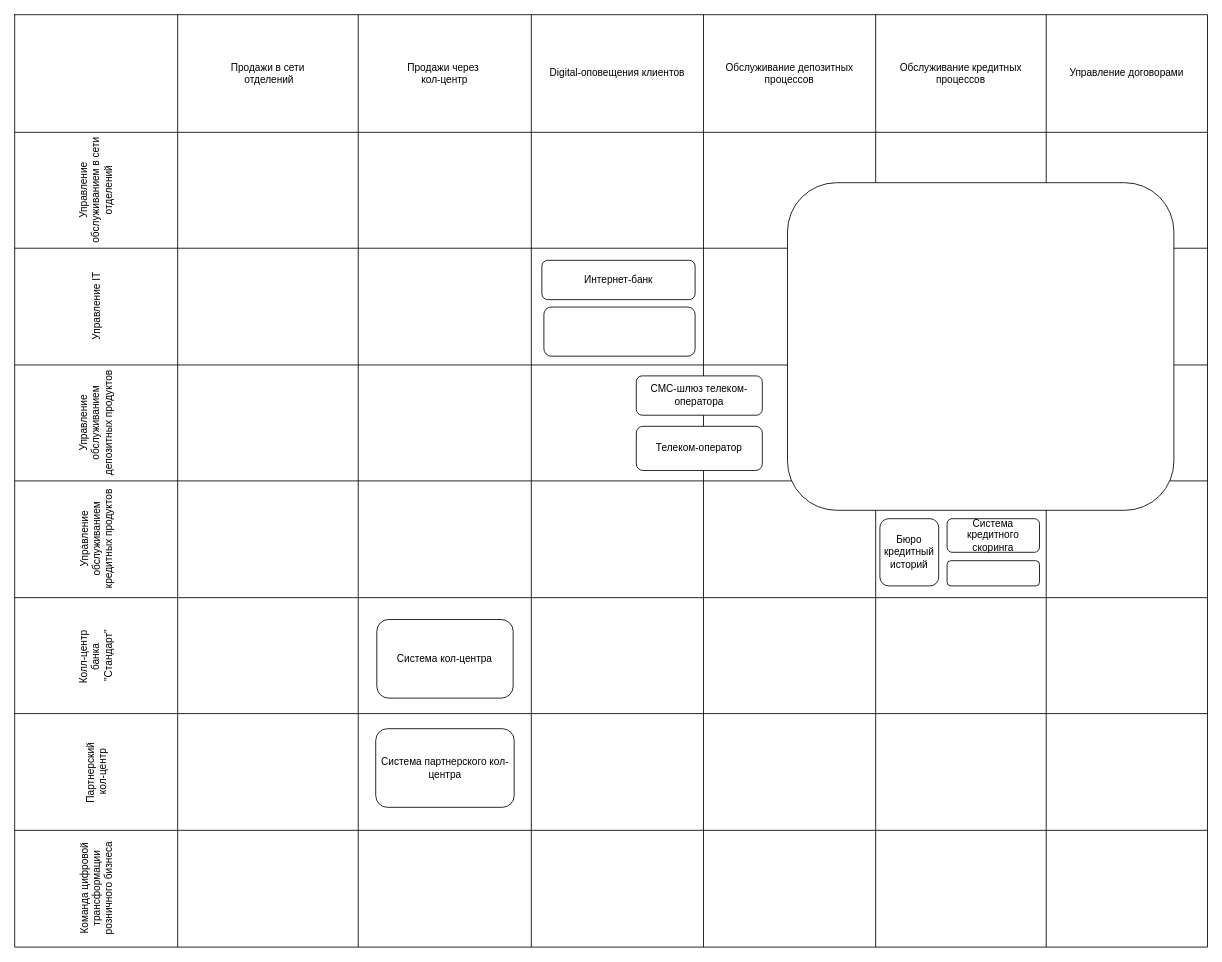
Image size: 1222x962. Some labels were removed from this diagram. The shapes that lost their labels are listed below. From the top down, each one's box as (x1, y1, x2, y2) in pixels, then its label:
(543, 306, 695, 356): Сайт
(787, 182, 1174, 510): АБС (автоматизированная банковская система )
(946, 560, 1040, 586): Кредитный конвейер
